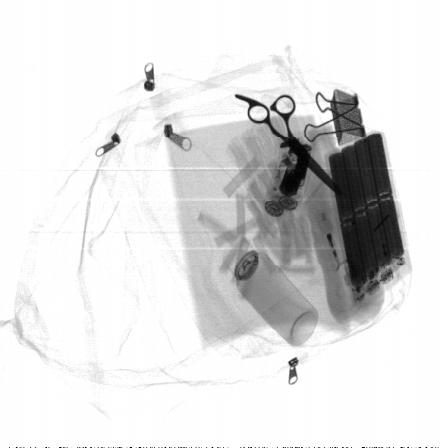Lighter: (316, 206, 359, 291)
Powerbank: (326, 127, 413, 310)
Scissors: (235, 93, 343, 194)
Sprayer: (226, 237, 320, 349)
